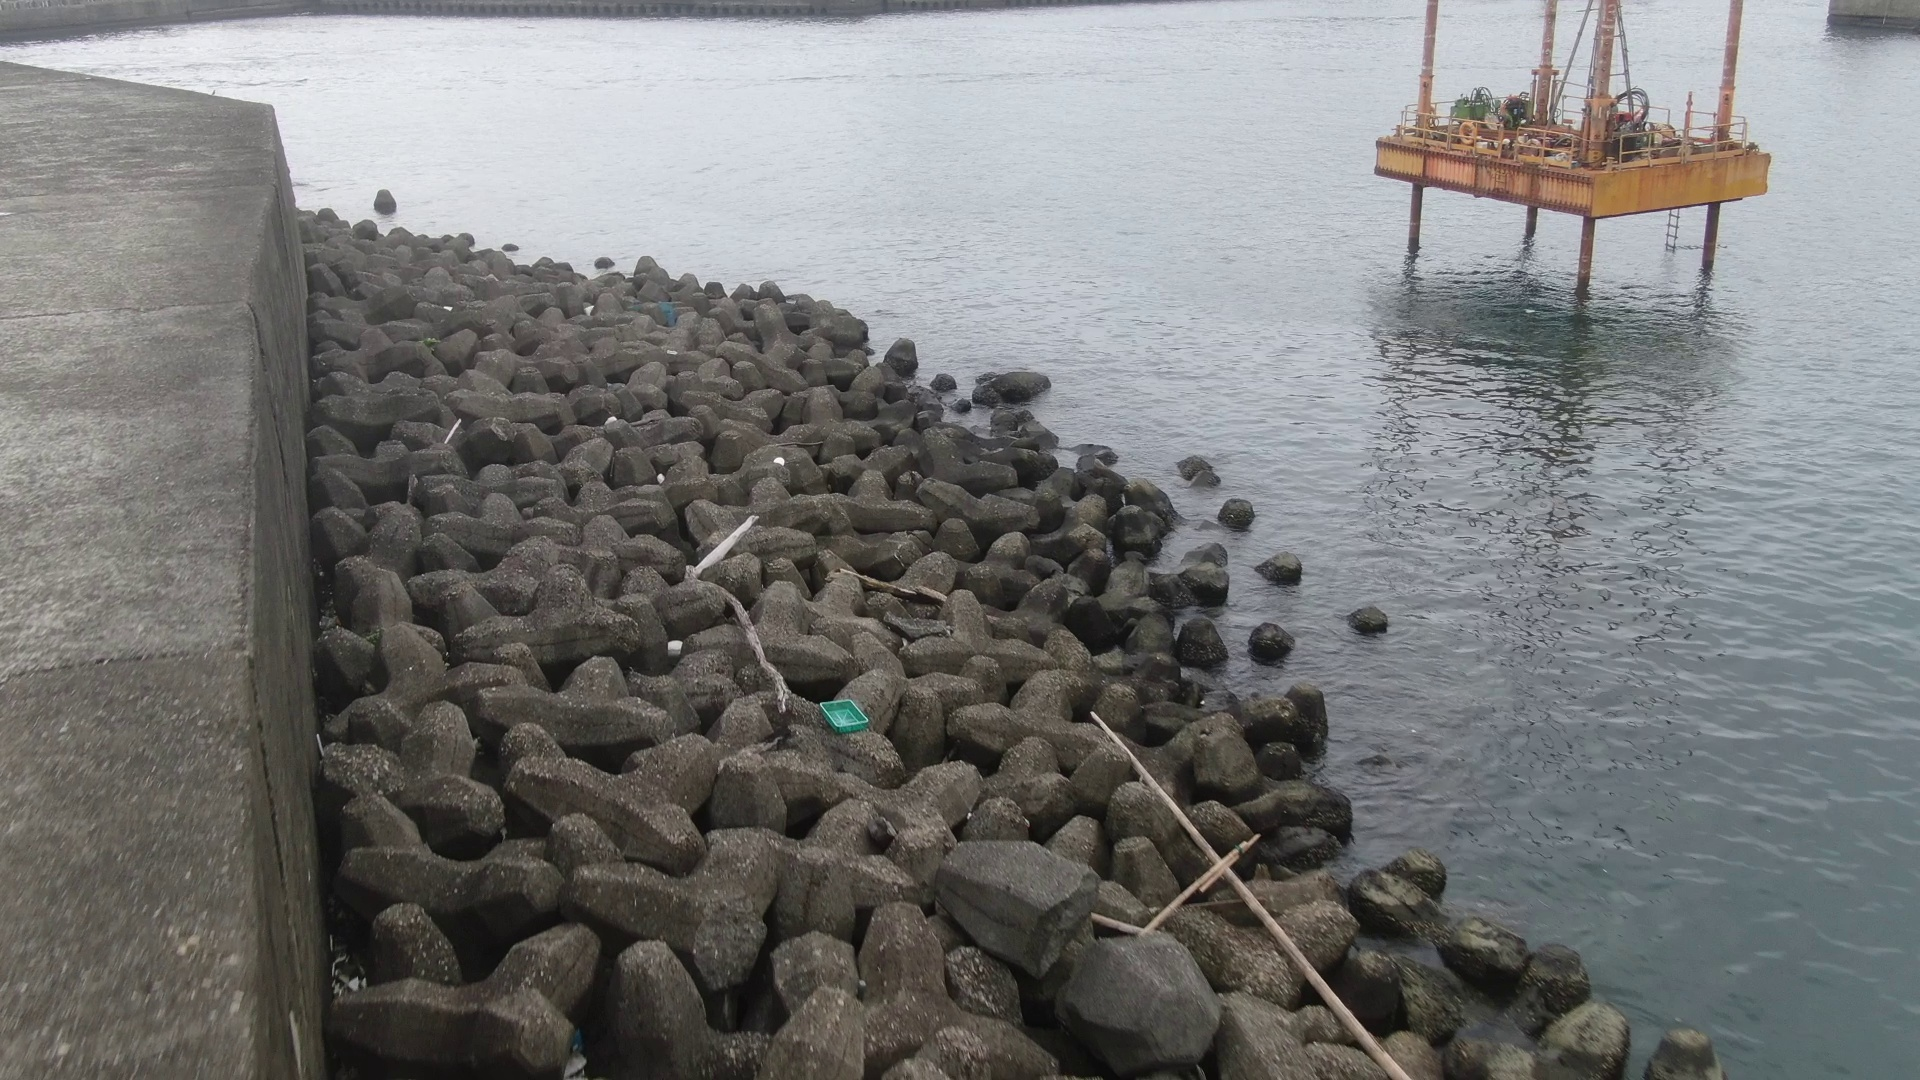garbage: (808, 690, 889, 740)
